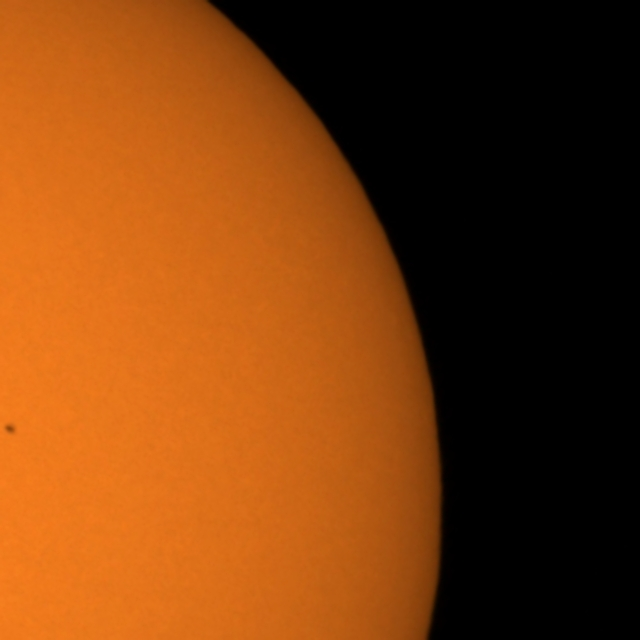sunspot: (1, 421, 19, 438)
